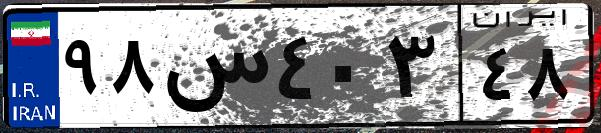0: (330, 28, 385, 110)
3: (385, 28, 445, 110)
4: (270, 28, 330, 110), (475, 38, 525, 113)
8: (525, 38, 570, 115), (110, 28, 158, 98)
9: (57, 26, 110, 100)
س: (158, 20, 270, 120)
